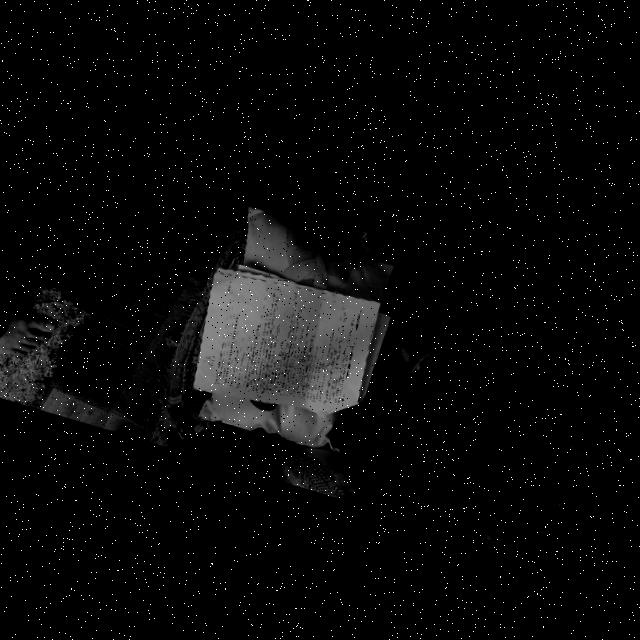document: (193, 267, 390, 413)
